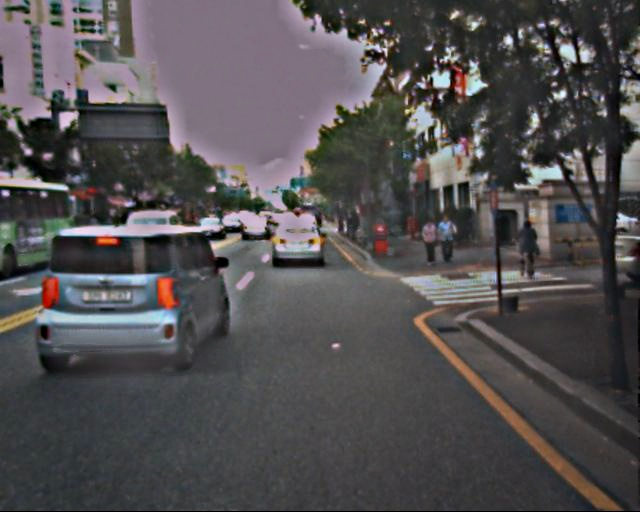person: (517, 220, 539, 274), (436, 214, 456, 263), (421, 219, 440, 266)
